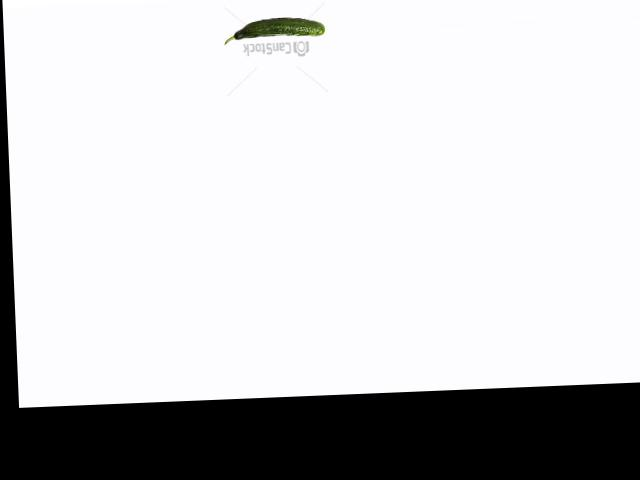cucumber: (222, 15, 324, 44)
